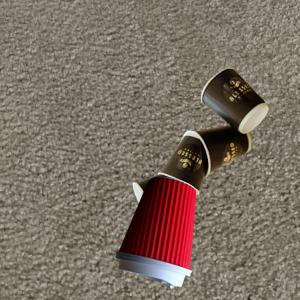cup: (118, 173, 199, 287), (202, 68, 268, 134)
